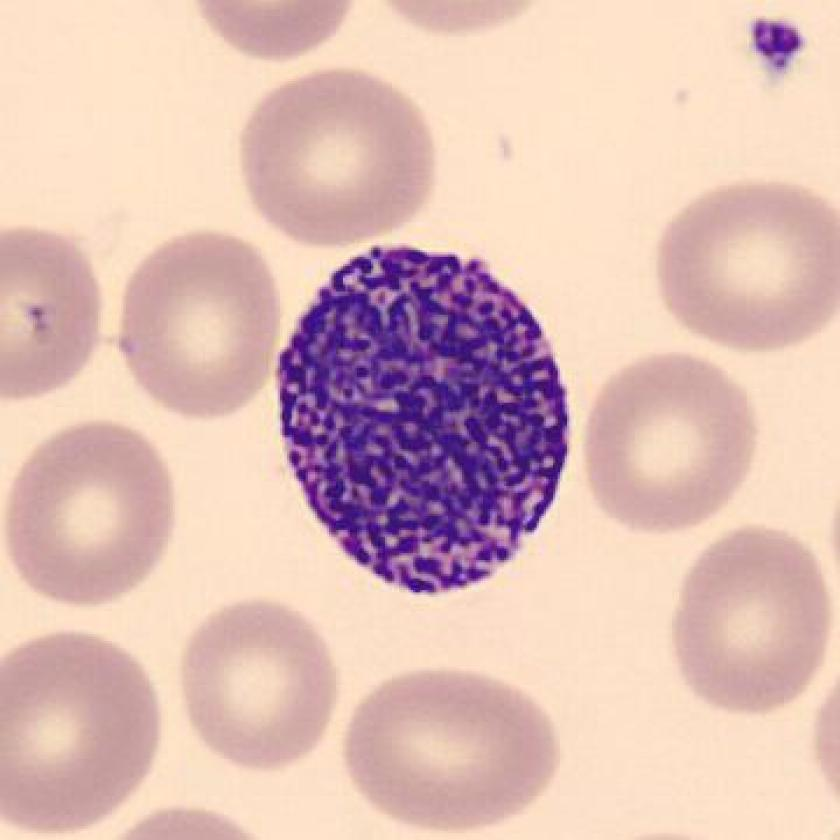basophil: (270, 242, 578, 598)
